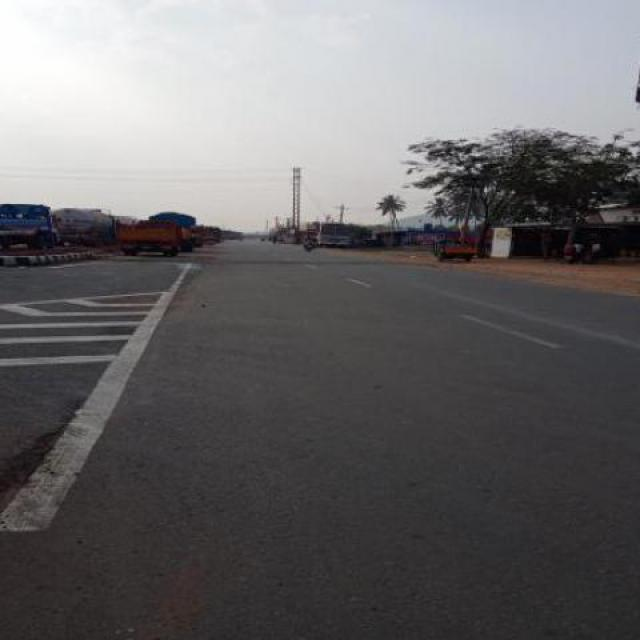Unmarked Bump: (85, 260, 436, 267)
